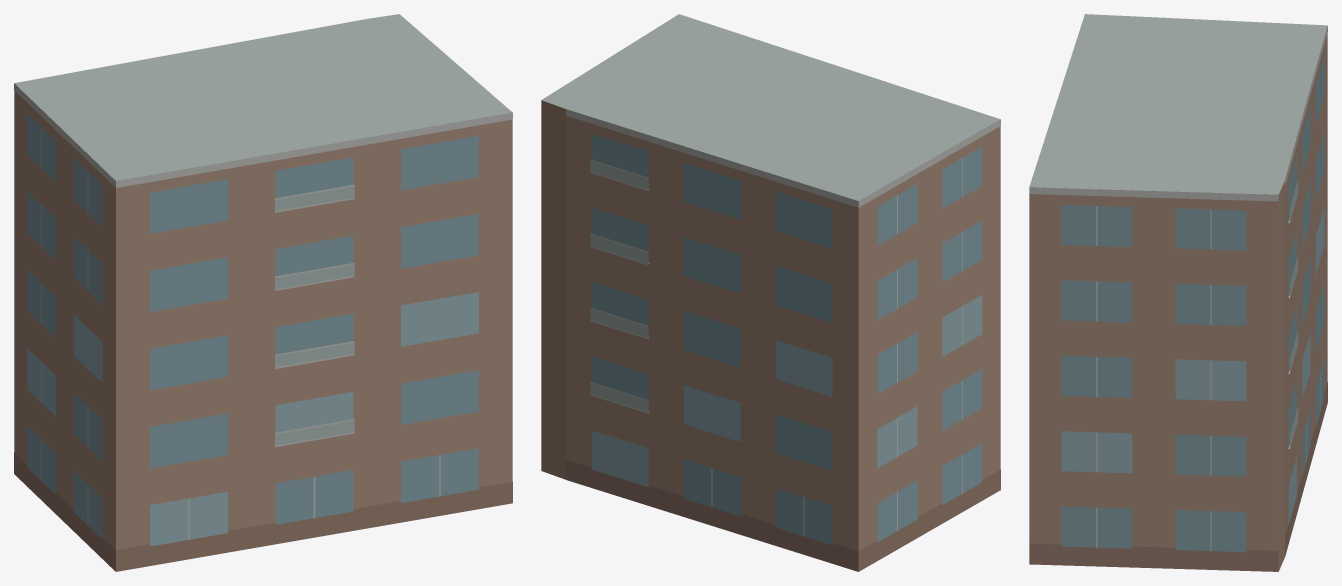
The model's file is survey-upis-33034043.glb.
3 renders of one model, left to right at view 1: azimuth 30°, elevation 25°; view 2: azimuth 150°, elevation 25°; view 3: azimuth 270°, elevation 25°, orthographic. The views are drawn at different scales.
Visible parts, largest first — view 1: survey-upis-33034043.tmp; view 2: survey-upis-33034043.tmp; view 3: survey-upis-33034043.tmp.
Boxes of the visible parts, <box> form: survey-upis-33034043.tmp: <box>14,14,512,571</box>; survey-upis-33034043.tmp: <box>541,14,1000,571</box>; survey-upis-33034043.tmp: <box>1029,14,1327,571</box>.
Bounding box in the file's own units: 14.1 × 13.7 × 9.84.
